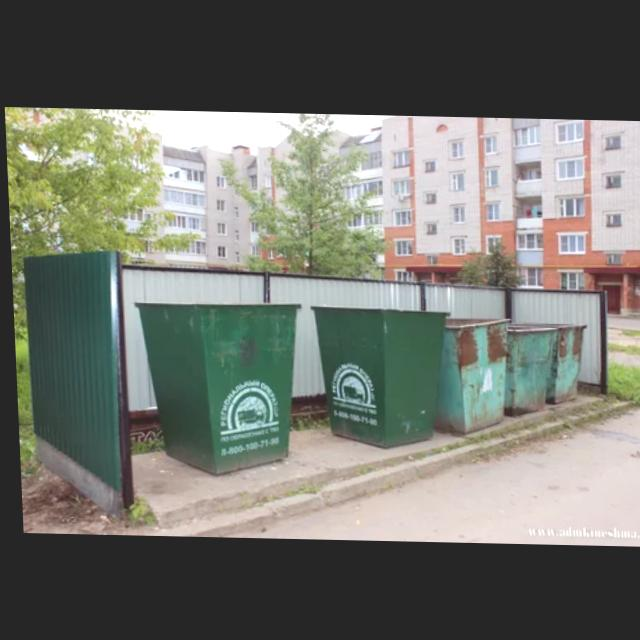Trash_Can_Empty: (131, 300, 305, 477), (308, 305, 452, 449), (427, 315, 511, 432), (509, 320, 587, 403), (497, 322, 558, 416)
